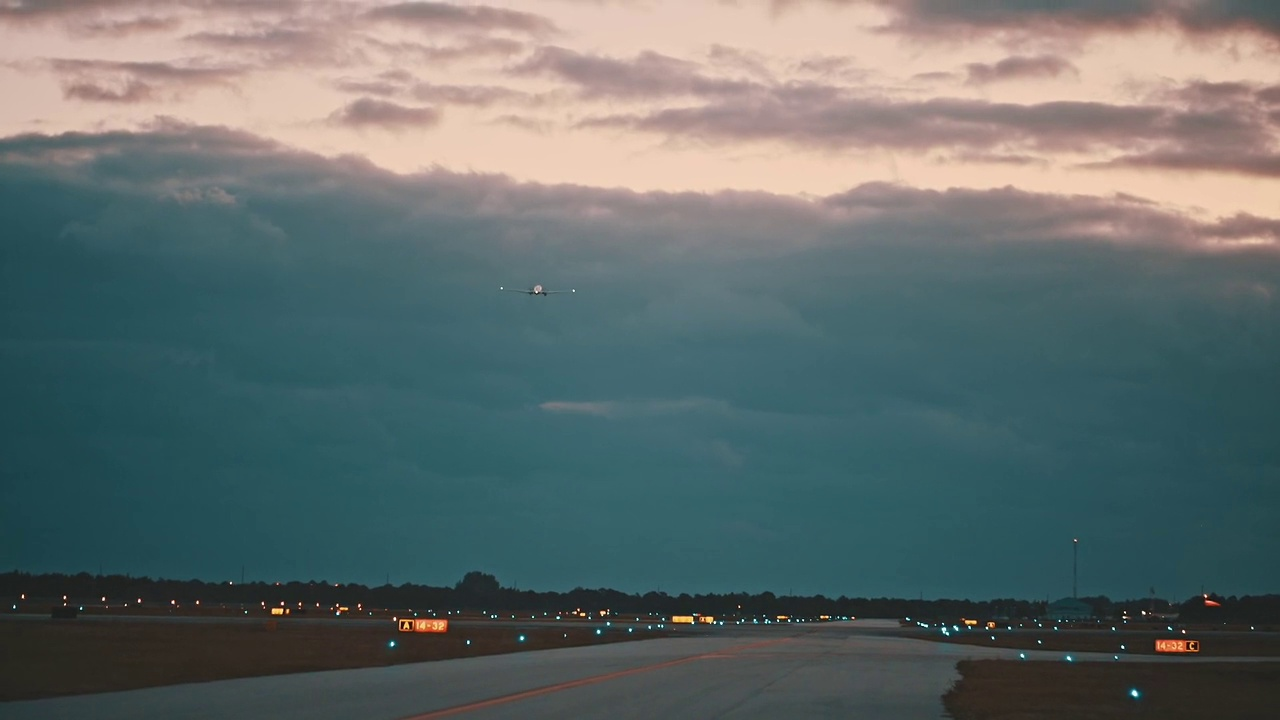plane: (498, 281, 574, 297)
